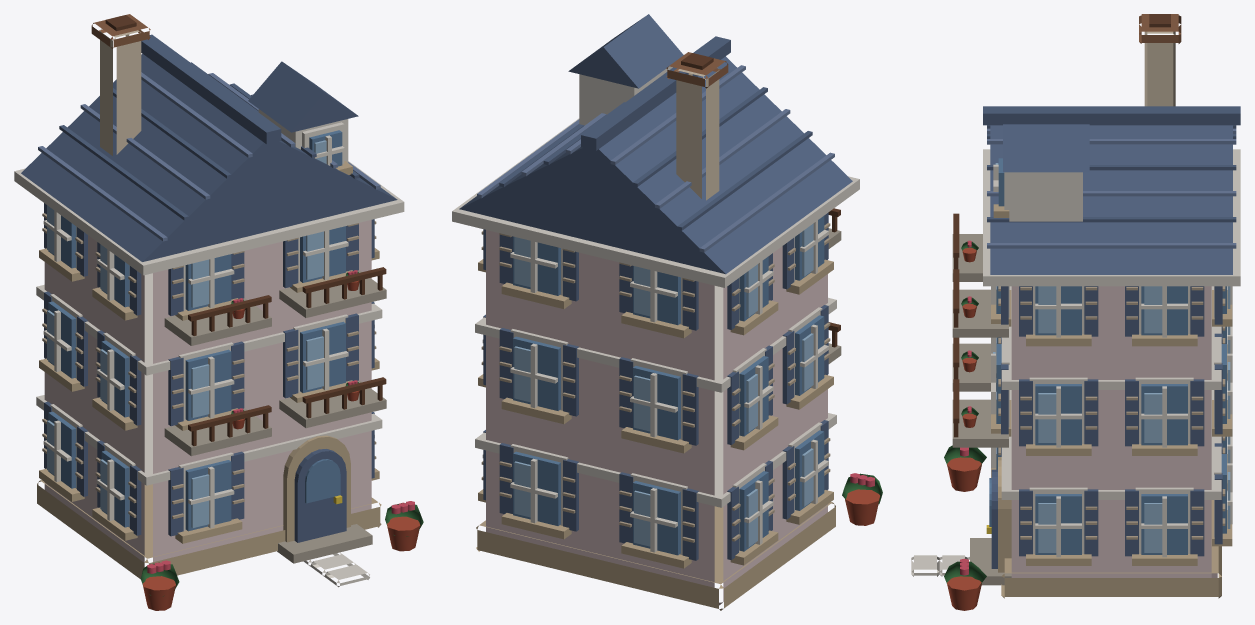
File: house-c.glb
3 views of the same model, side by side, from view 1: azimuth 30°, elevation 25°; view 2: azimuth 150°, elevation 25°; view 3: azimuth 270°, elevation 25° (orthographic). The views are drawn at different scales.
Visible parts, largest first — view 1: house-c; view 2: house-c; view 3: house-c.
Boxes of the visible parts, bbox=[...] form: house-c: bbox=[14, 14, 423, 610]; house-c: bbox=[452, 14, 882, 610]; house-c: bbox=[911, 14, 1240, 610].
Size of the model in its own units: 0.8344 by 1.44 by 0.8599.
